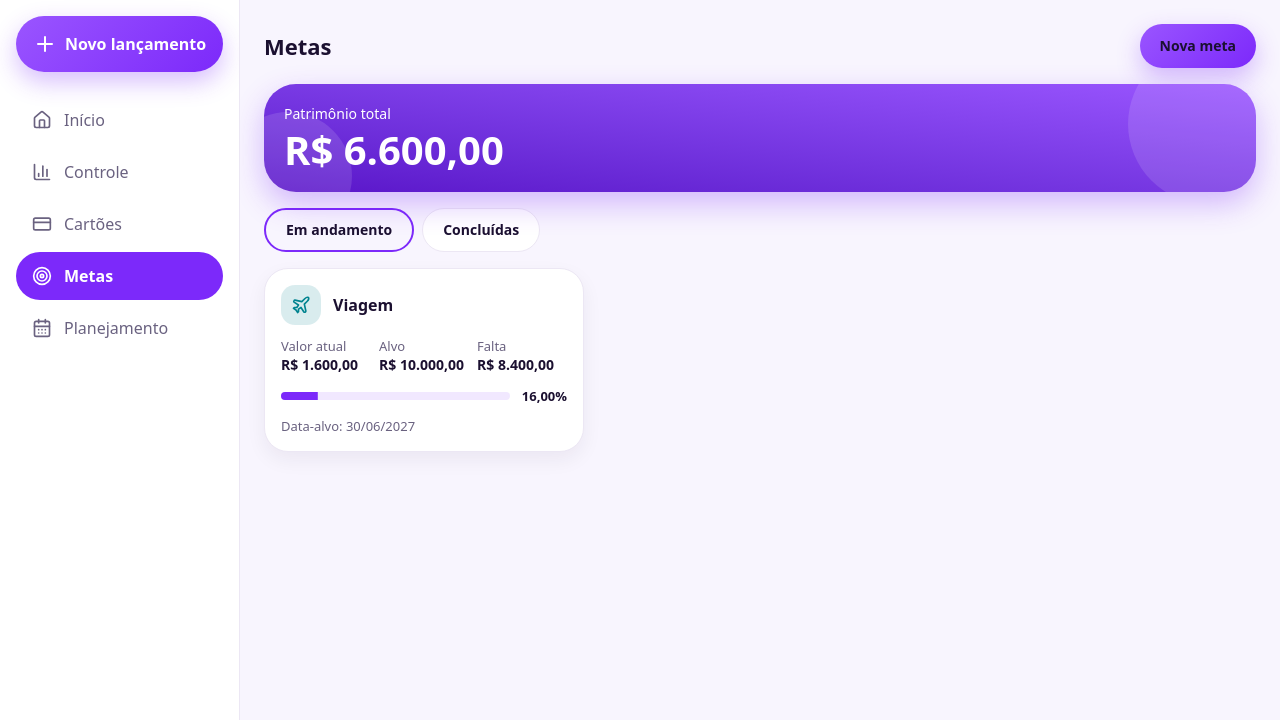
Test case: Metas: lista e patrimônio (CA-6.09, CA-6.10) › a aba Concluídas mostra só as concluídas e a aba marcada fica pressionada
Expected: the text "Viagem" is shown, [333,294,393,316]
Click the button "Concluídas". click: coordinates (481, 230)
box: [422,208,540,252]
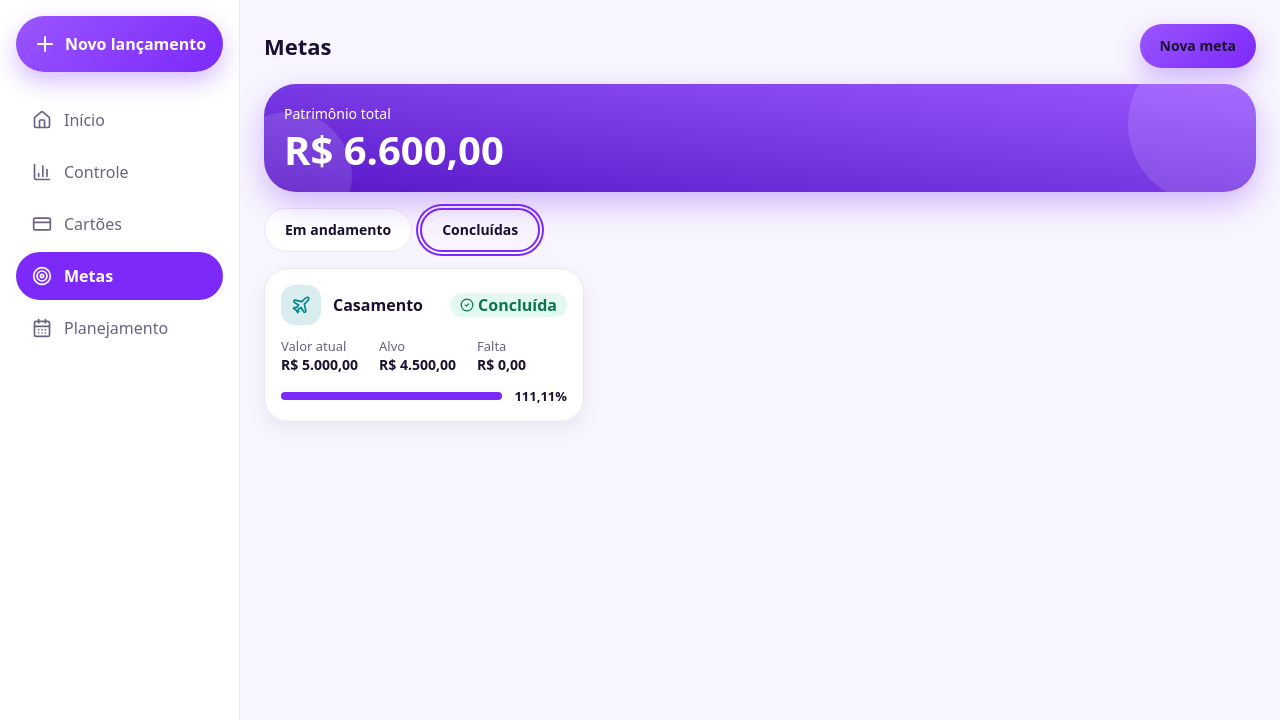
Result: the text "Casamento" is shown at [333,294,438,316]
Result: the link "Viagem" is gone
